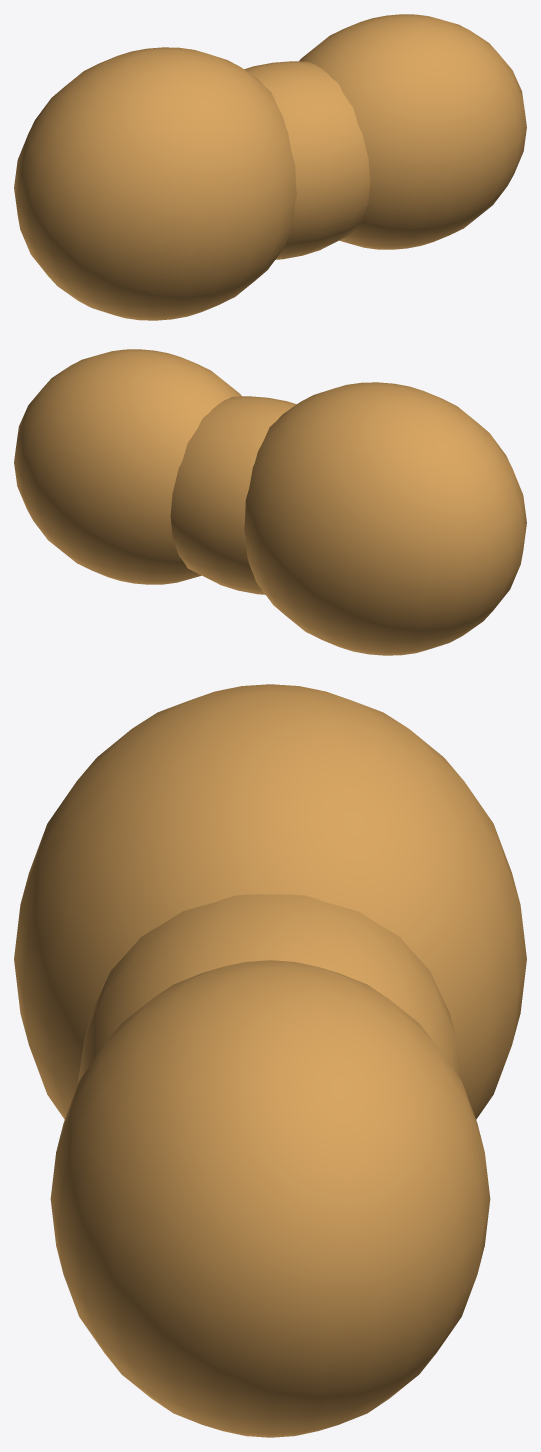
The model's file is nut.glb.
3 views of the same model, one above another, from view 1: azimuth 30°, elevation 25°; view 2: azimuth 150°, elevation 25°; view 3: azimuth 270°, elevation 25° (orthographic). The views are drawn at different scales.
Parts seen in each view (by area): view 1: nut; view 2: nut; view 3: nut.
Part boxes in pixels (x1=…): nut: x1=14, y1=14, x2=526, y2=320; nut: x1=14, y1=349, x2=526, y2=655; nut: x1=14, y1=684, x2=526, y2=1437.
Bounding box in the file's own units: 1.72 × 0.84 × 0.798.
